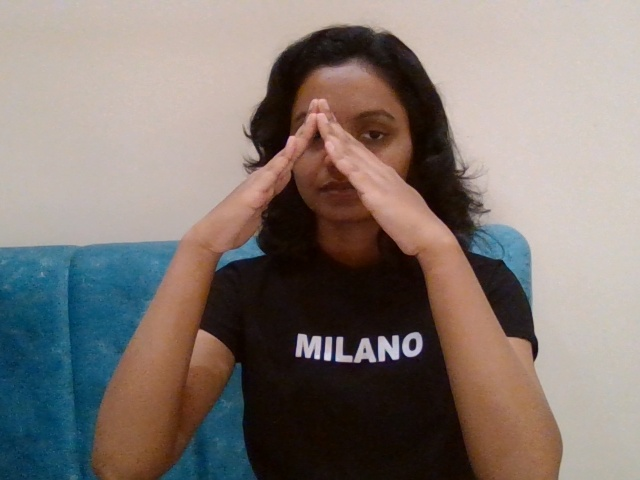House: (163, 87, 488, 305)
